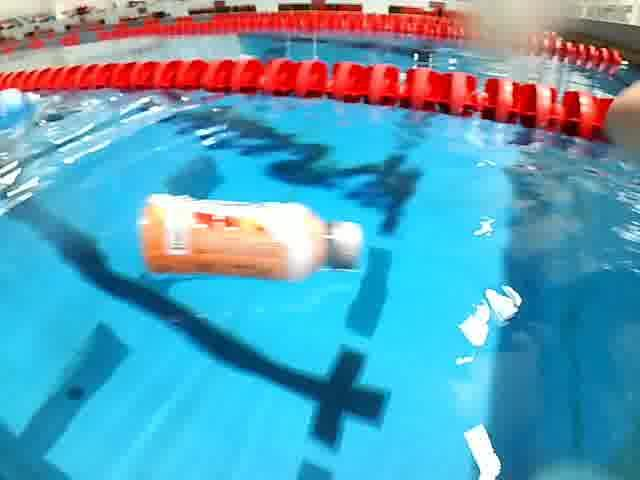Bottle: (132, 188, 372, 291)
